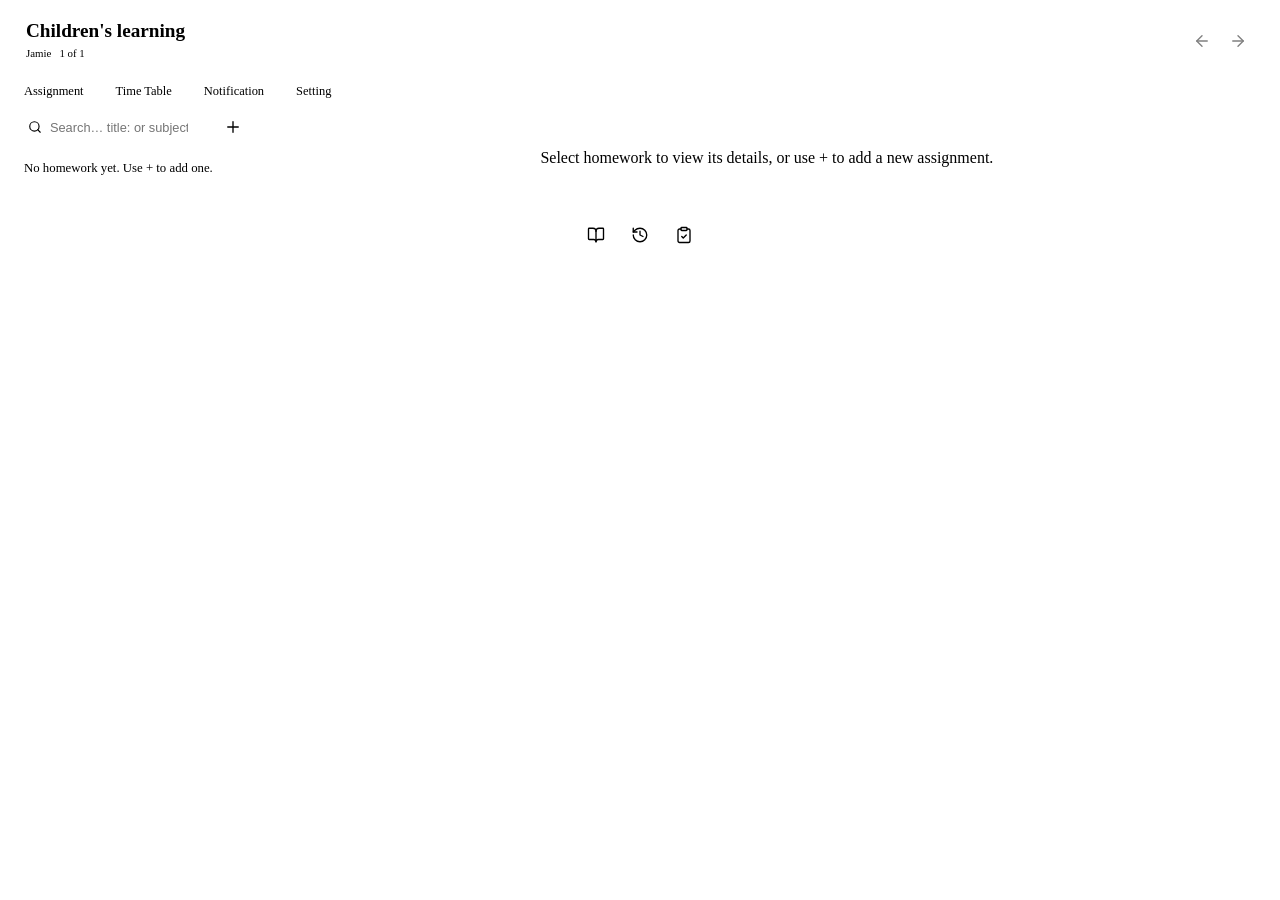
parent learning profiles › shares and revokes access without removing the last guardian
Check: the text "Jamie" is shown, box [26,45,51,61]
Click the tab "Setting" at (314, 91), box [280,73,347,109]
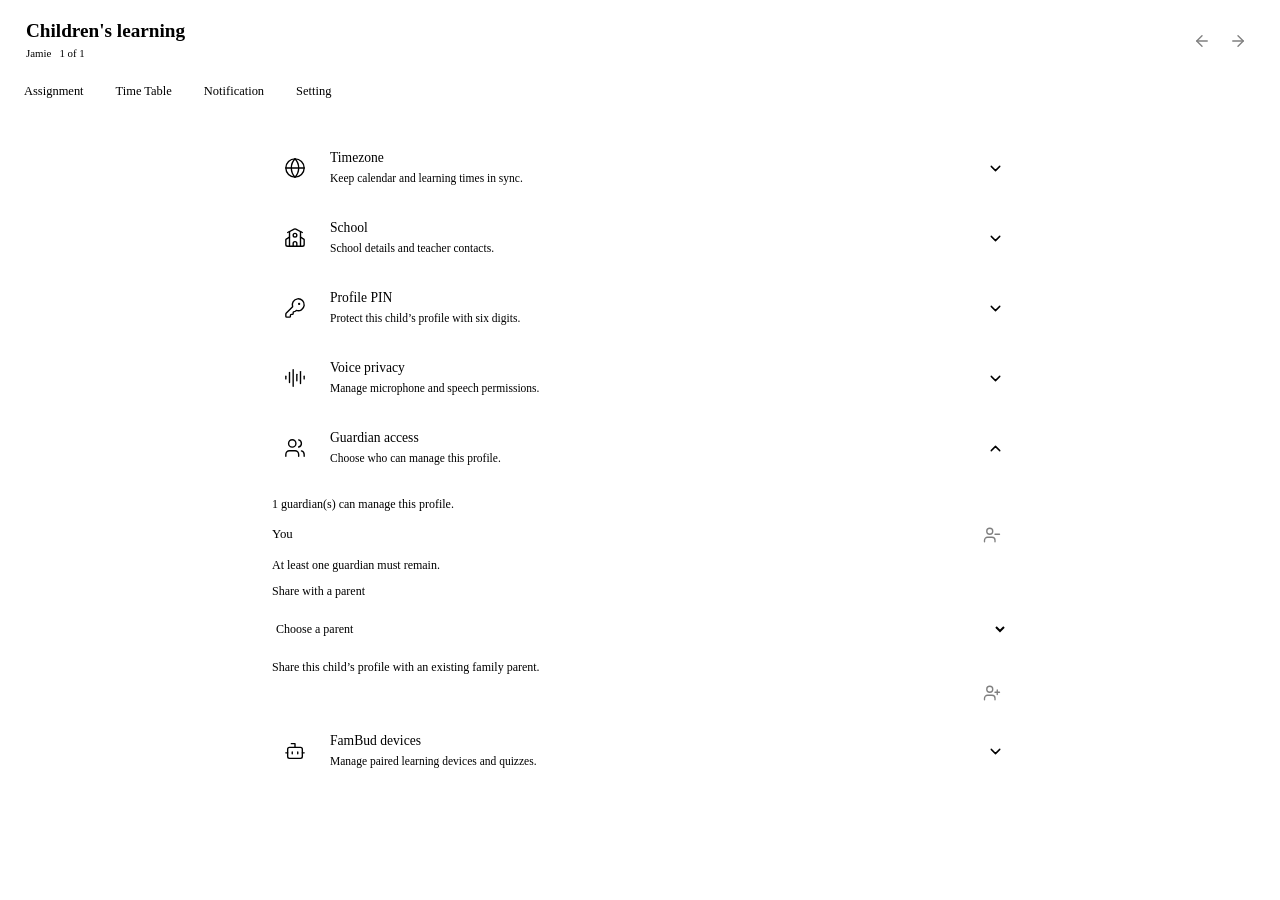
Check: the button named "Remove guardian" is disabled, box [976,524,1008,546]
Select "Morgan" in the dropdown labelled "Share with a parent" at (640, 630), box [272,608,1008,652]
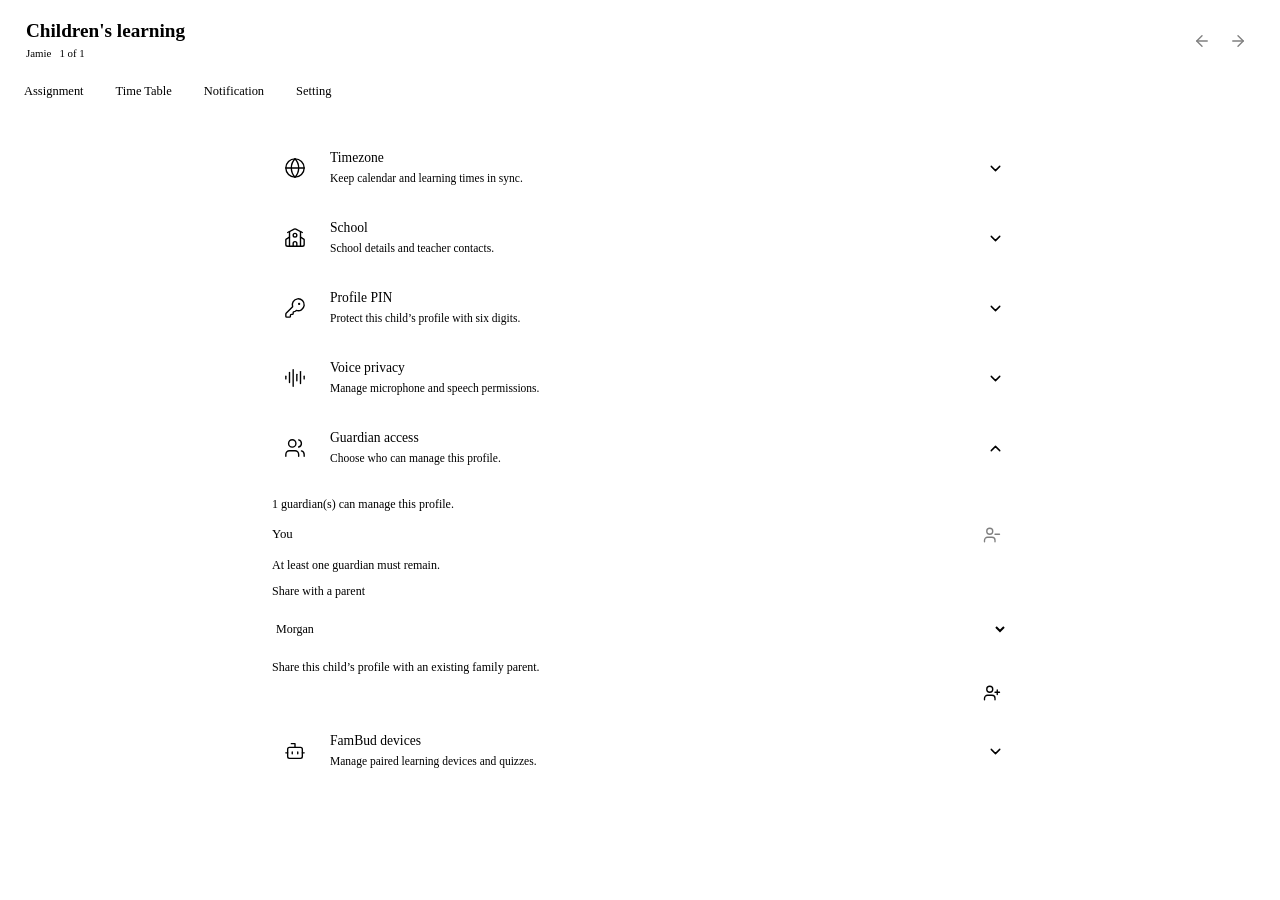
Click the button named "Add guardian" at (992, 693), box [976,682,1008,704]
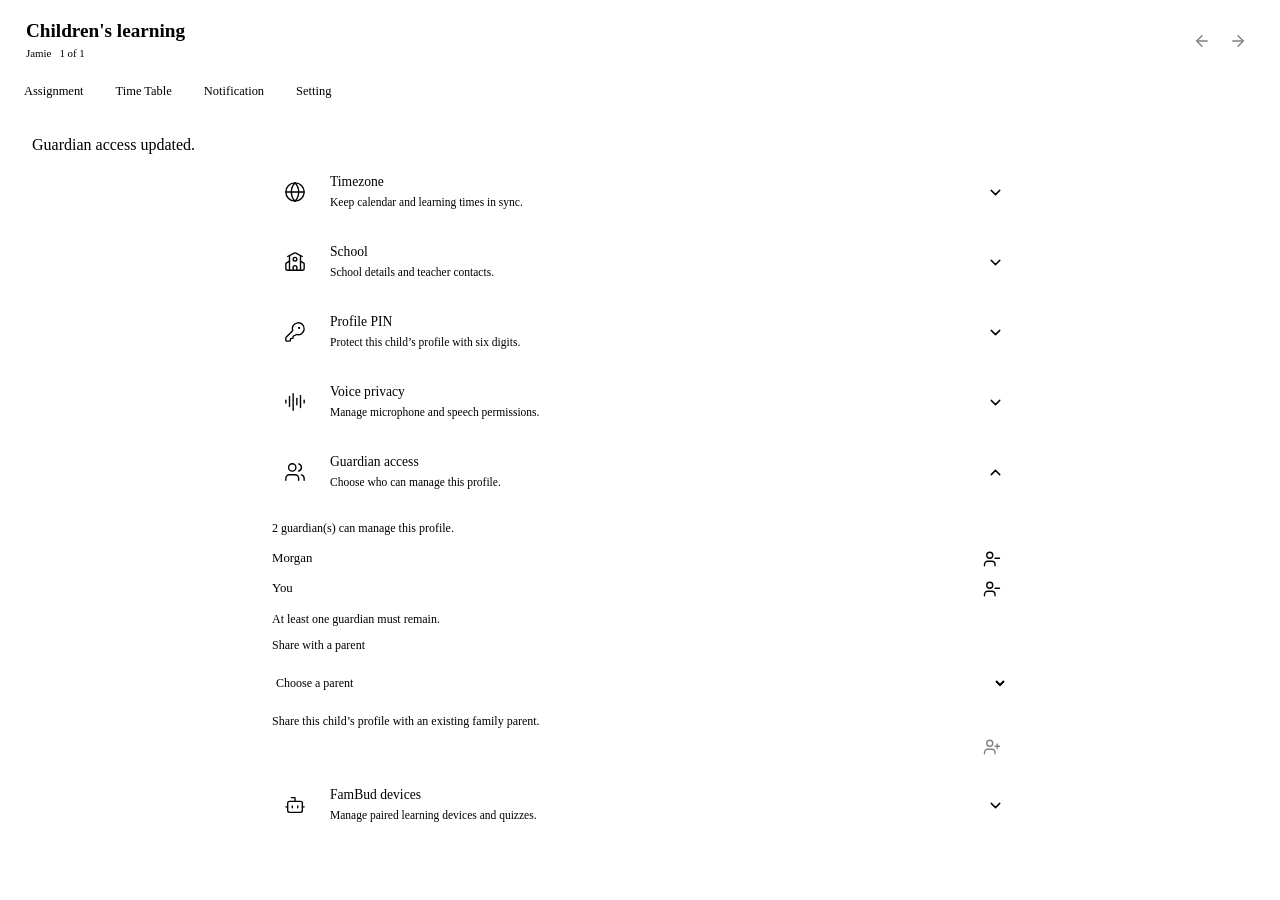
Check: the text "2 guardian(s) can manage this profile." is shown, box [272,521,454,535]
Click the button named "Remove guardian" in the row of "Morgan" at (992, 559), box [976,548,1008,570]
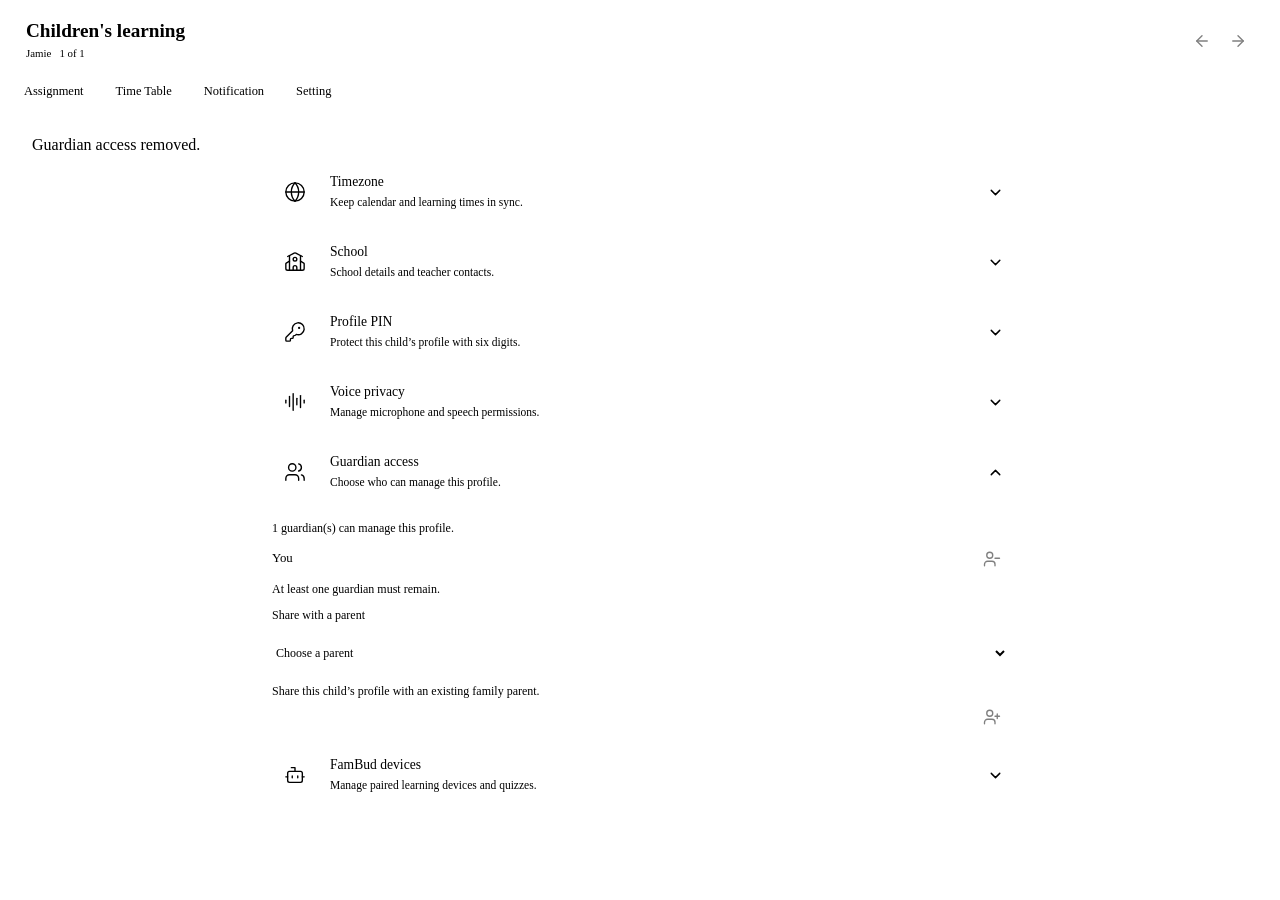
Check: the text "Guardian access removed." is shown, box [32,136,200,153]
